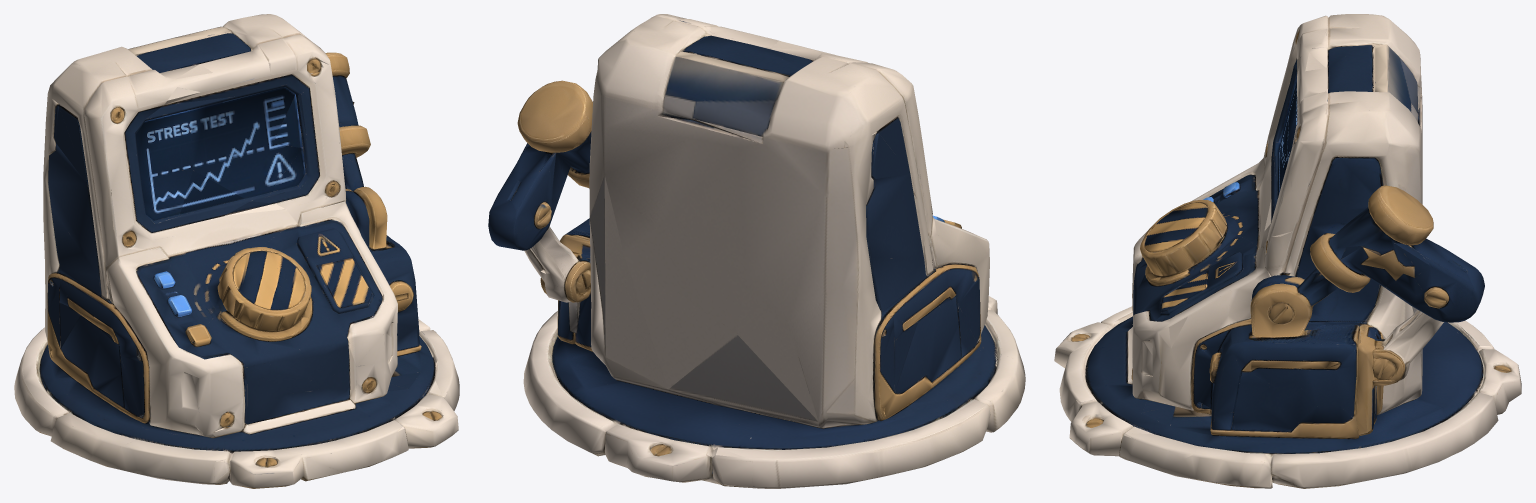
The model's file is prover-station-model-candidate-01.glb.
The picture shows the model from 3 angles, left to right: view 1: azimuth 30°, elevation 25°; view 2: azimuth 150°, elevation 25°; view 3: azimuth 270°, elevation 25°; orthographic projection. The views are drawn at different scales.
Visible parts, largest first — view 1: mesh_node; view 2: mesh_node; view 3: mesh_node.
Boxes of the visible parts, x1,y1,x2,y2 form: mesh_node: [14, 14, 459, 488]; mesh_node: [488, 14, 1025, 488]; mesh_node: [1054, 14, 1521, 488].
Bounding box in the file's own units: 1.92 × 1.55 × 2.
Materials: 1 (1 with a texture image).
